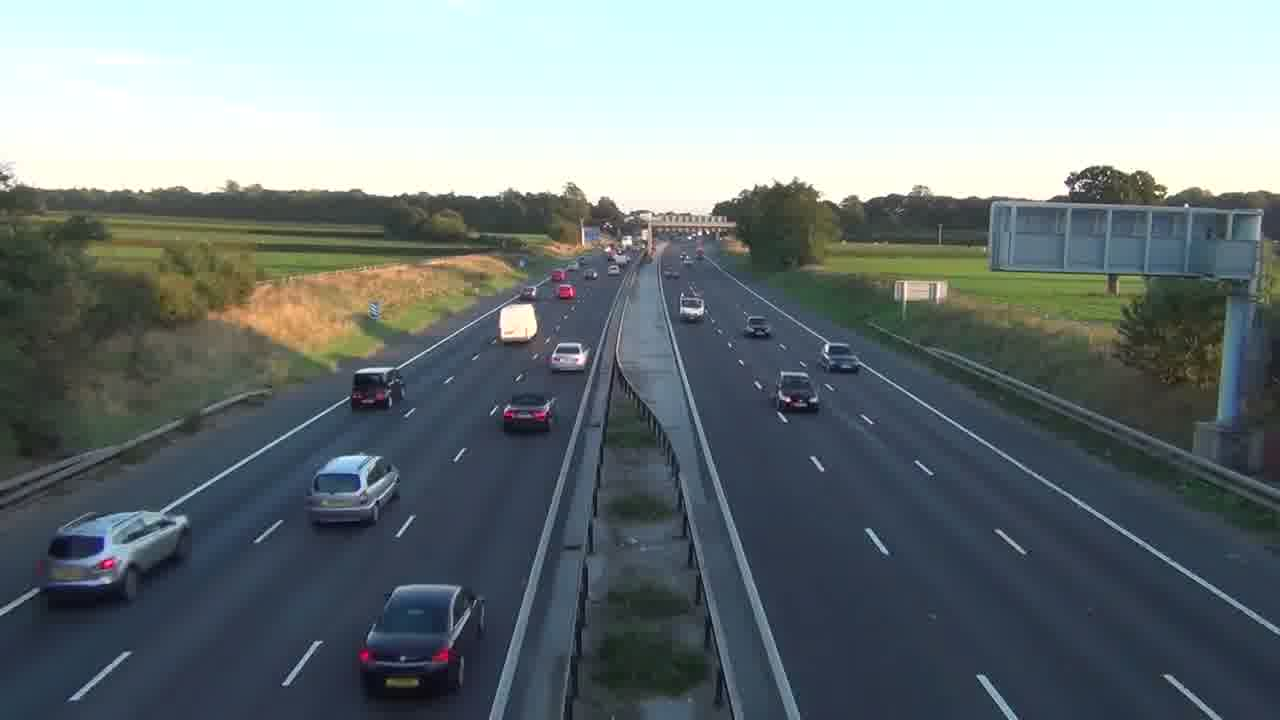car: (34, 508, 192, 604), (356, 583, 485, 699), (305, 452, 401, 526), (501, 392, 559, 434), (775, 369, 821, 412), (549, 341, 592, 373)
truck: (497, 302, 539, 344)
